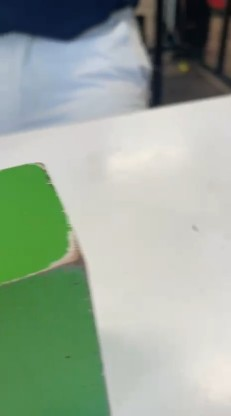green: (0, 147, 108, 407)
